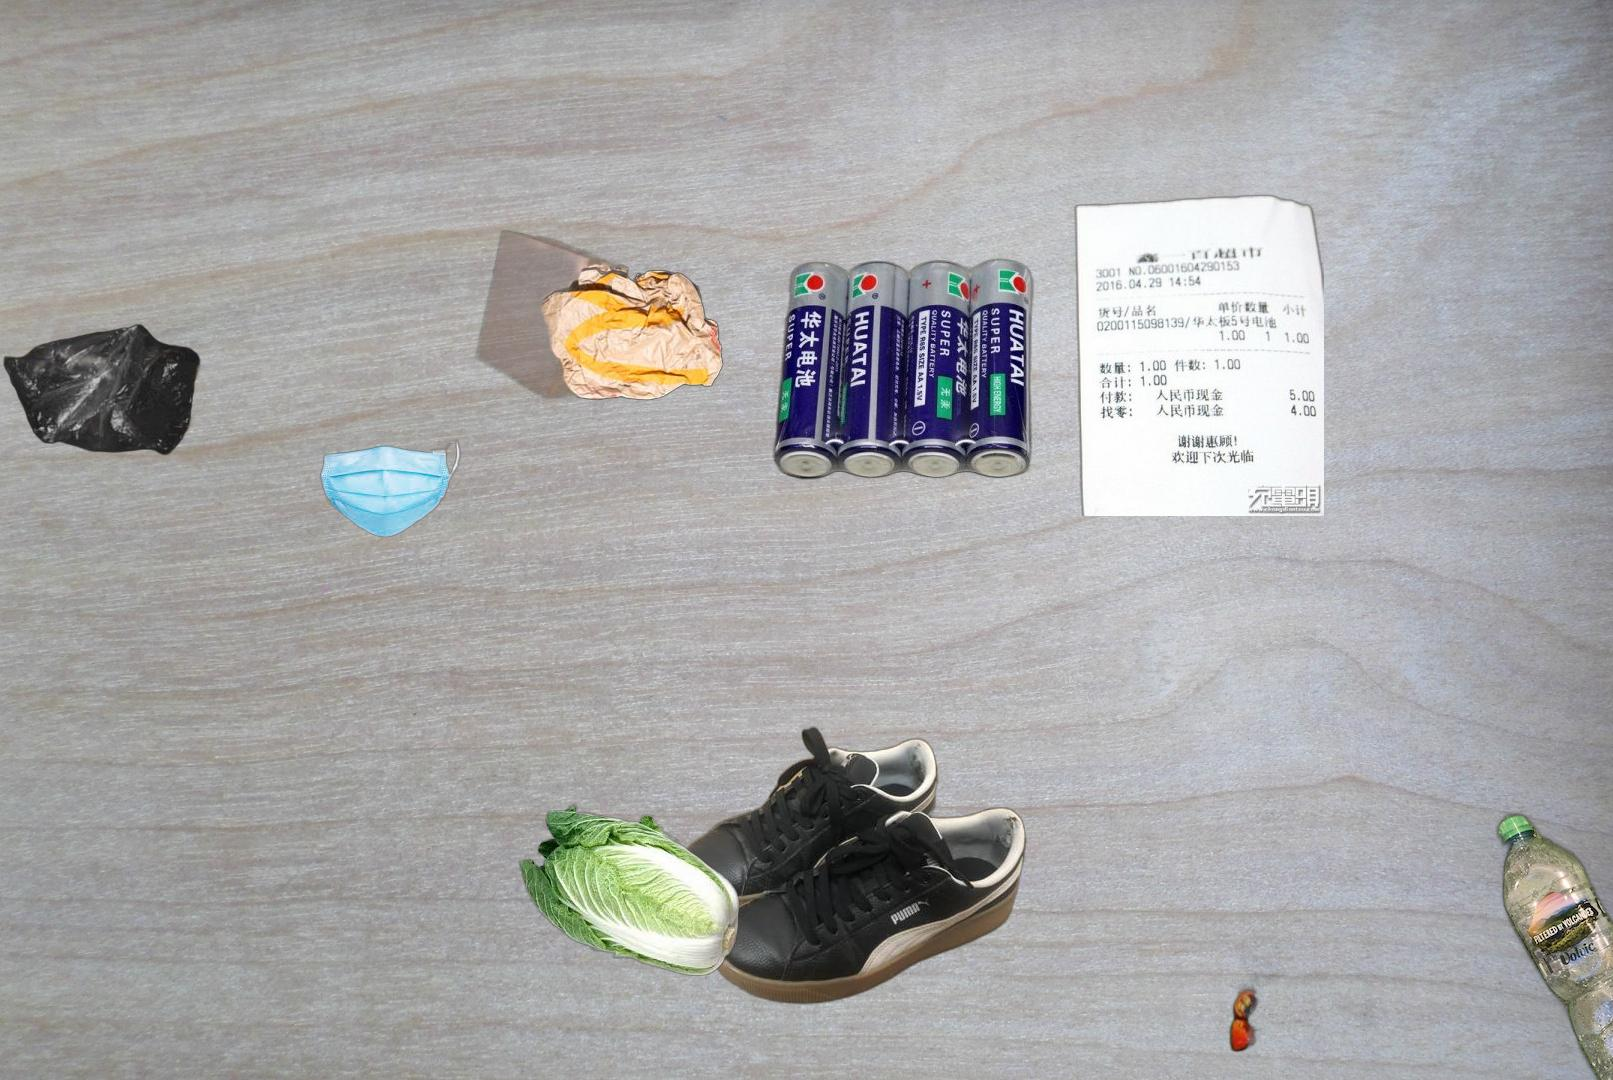battery: (769, 194, 1324, 516)
biological: (1145, 891, 1391, 1066), (516, 802, 741, 979)
paper-bag: (457, 218, 726, 481)
plastic-bag: (1, 321, 203, 458)
plastic-bottles: (1492, 808, 1613, 1080)
shoes: (671, 723, 1030, 1008)
trash: (312, 432, 463, 540)
